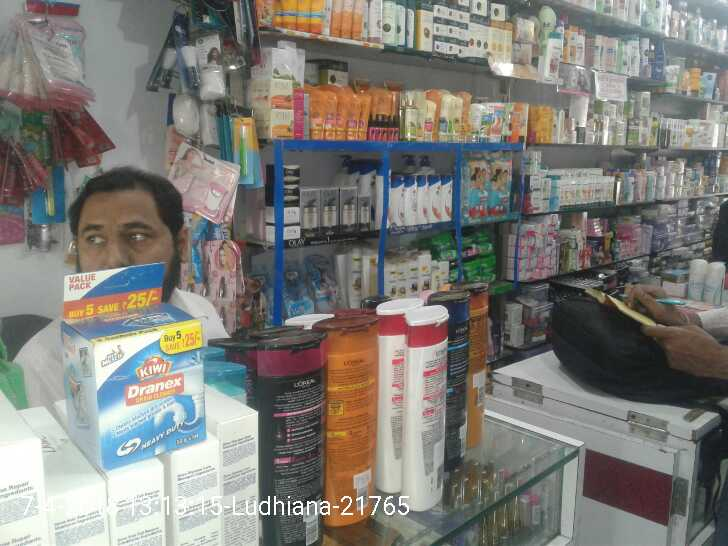gillete: (146, 40, 175, 93), (176, 14, 195, 90)
venus: (311, 250, 333, 312), (286, 268, 308, 316)
